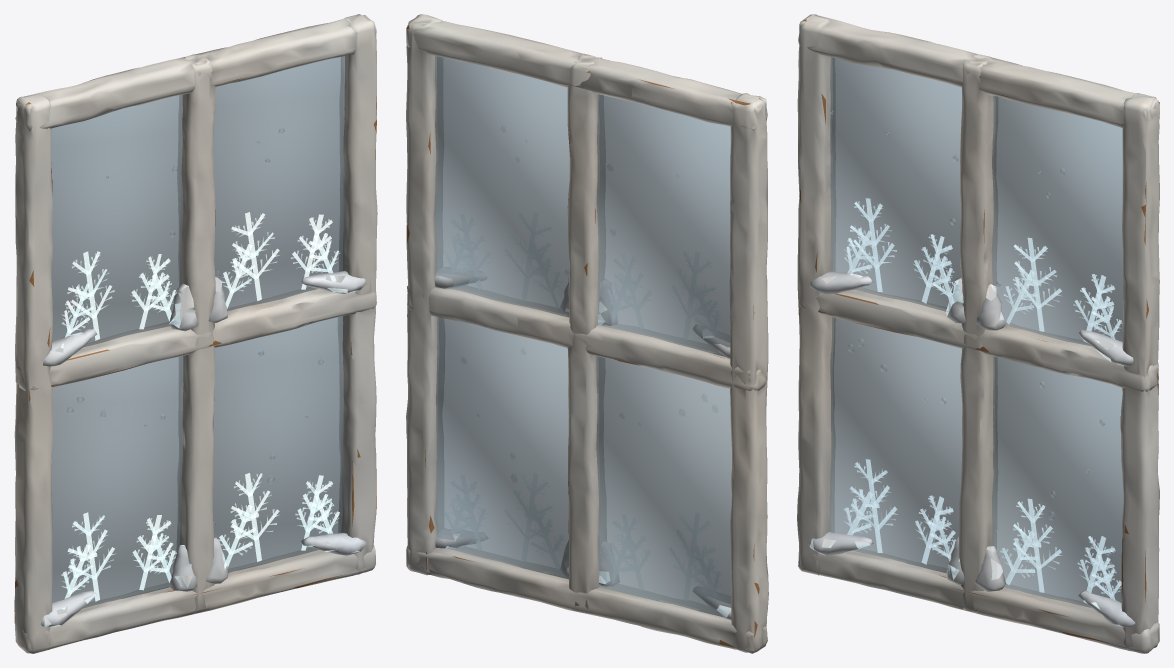
File: frost_window_pane.glb
3 views of the same model, side by side, from view 1: azimuth 30°, elevation 25°; view 2: azimuth 150°, elevation 25°; view 3: azimuth 330°, elevation 25° (orthographic).
Visible parts, largest first — view 1: frost_window_pane; view 2: frost_window_pane; view 3: frost_window_pane.
Boxes of the visible parts, x1,y1,x2,y2 form: frost_window_pane: (14, 14, 377, 653); frost_window_pane: (406, 14, 768, 653); frost_window_pane: (797, 14, 1159, 653).
Size of the model in its own units: 40.39 by 60.27 by 3.79.
